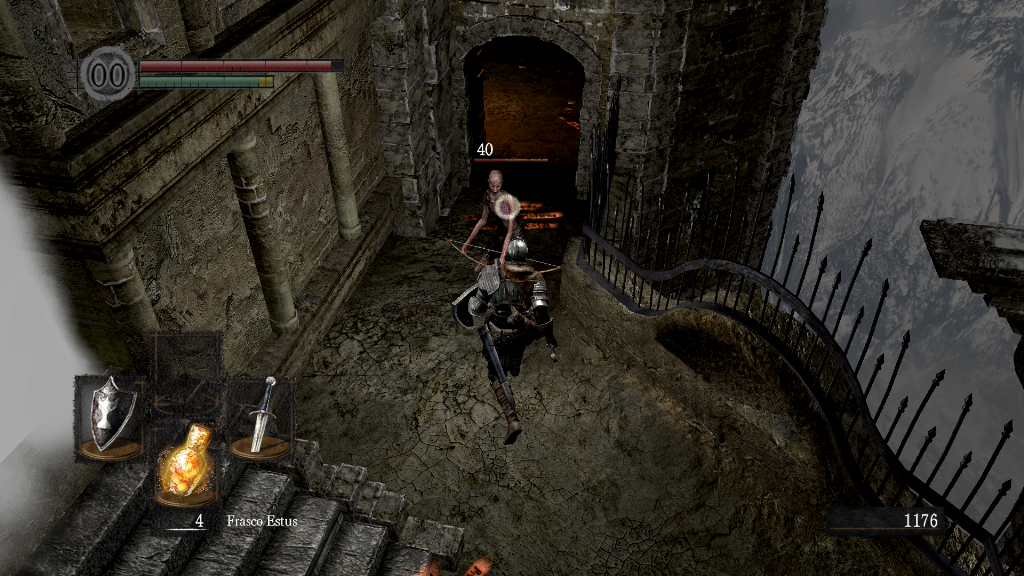health: (138, 58, 343, 71)
hollow: (448, 167, 524, 290)
humanity: (80, 45, 136, 102)
player: (451, 235, 560, 445)
souls: (825, 506, 945, 536)
stamina: (138, 74, 274, 88)
